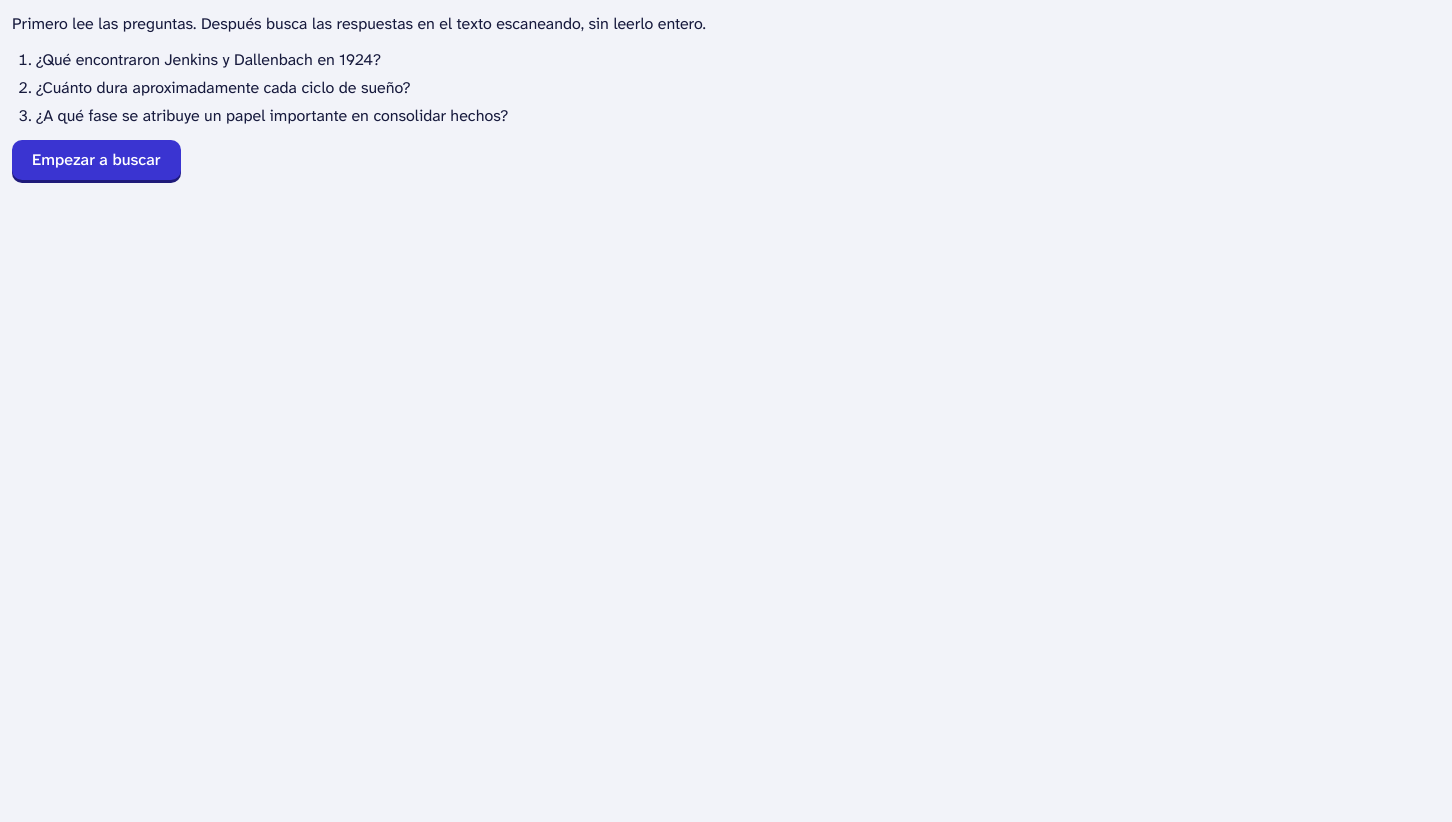
Test: Scan › muestra primero las preguntas, luego el texto y la puntuación
Later steps or results of the test are not shown.
Click the button "Empezar a buscar".
click(96, 160)  # box 12,140 -> 181,180
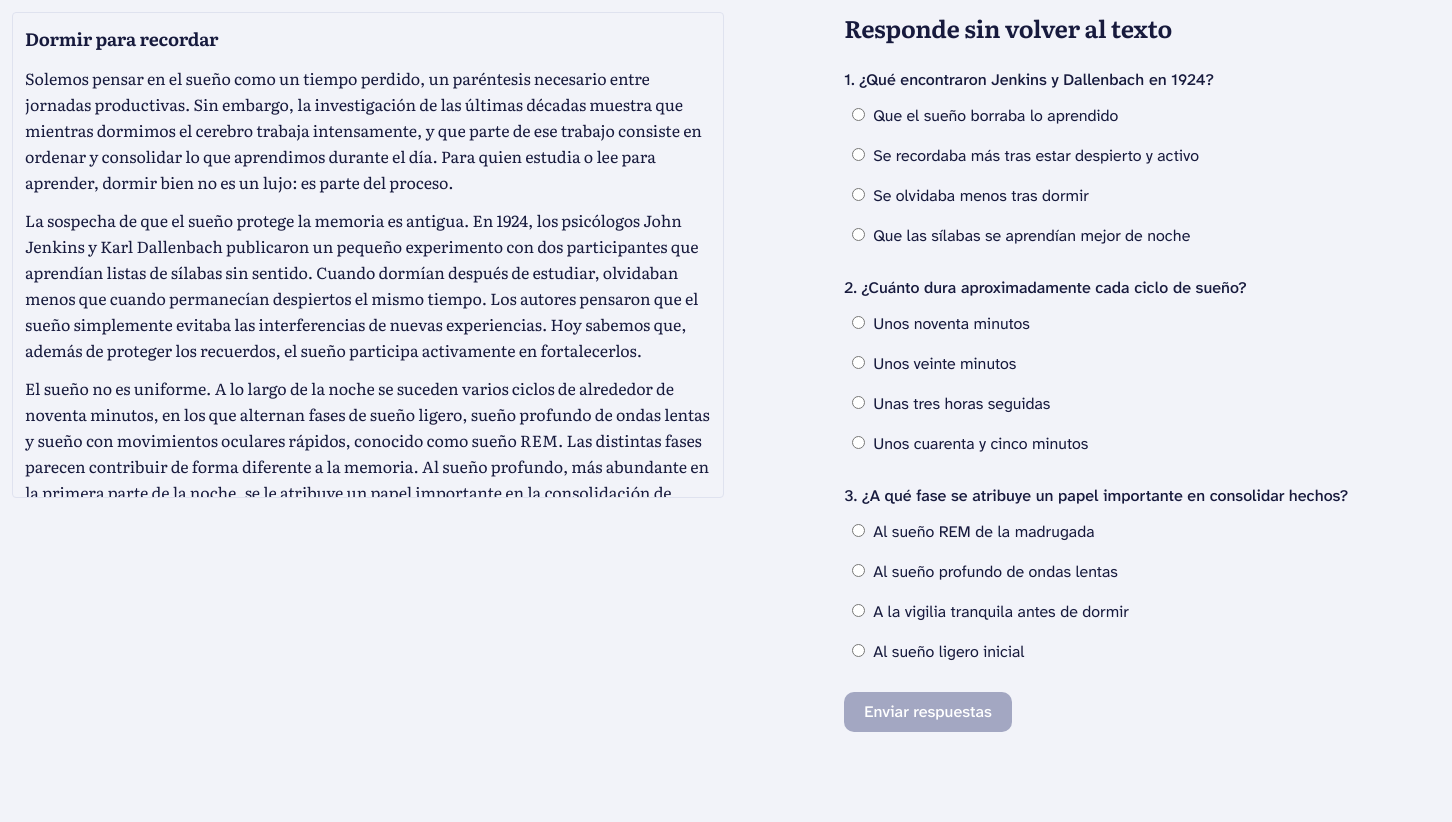
expect the element that starts with "Dormir para recordar" shows "Jenkins y Karl Dallenbach": met, box 25,208 -> 699,362
Click the radio button labelled "Se olvidaba menos tras dormir".
click(859, 194)  # box 852,188 -> 865,201
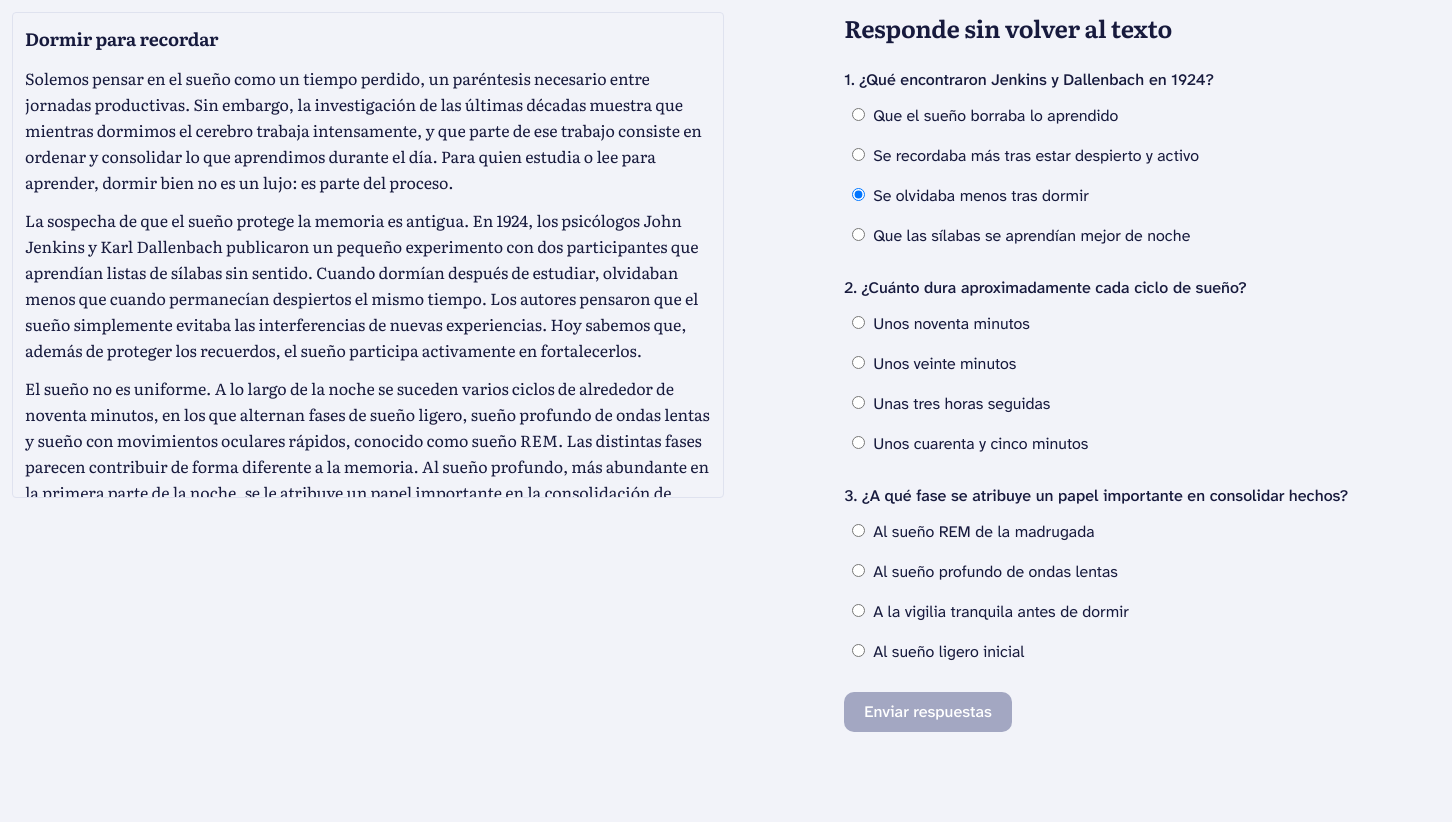
Click the radio button labelled "Unos noventa minutos".
click(859, 322)  # box 852,316 -> 865,329
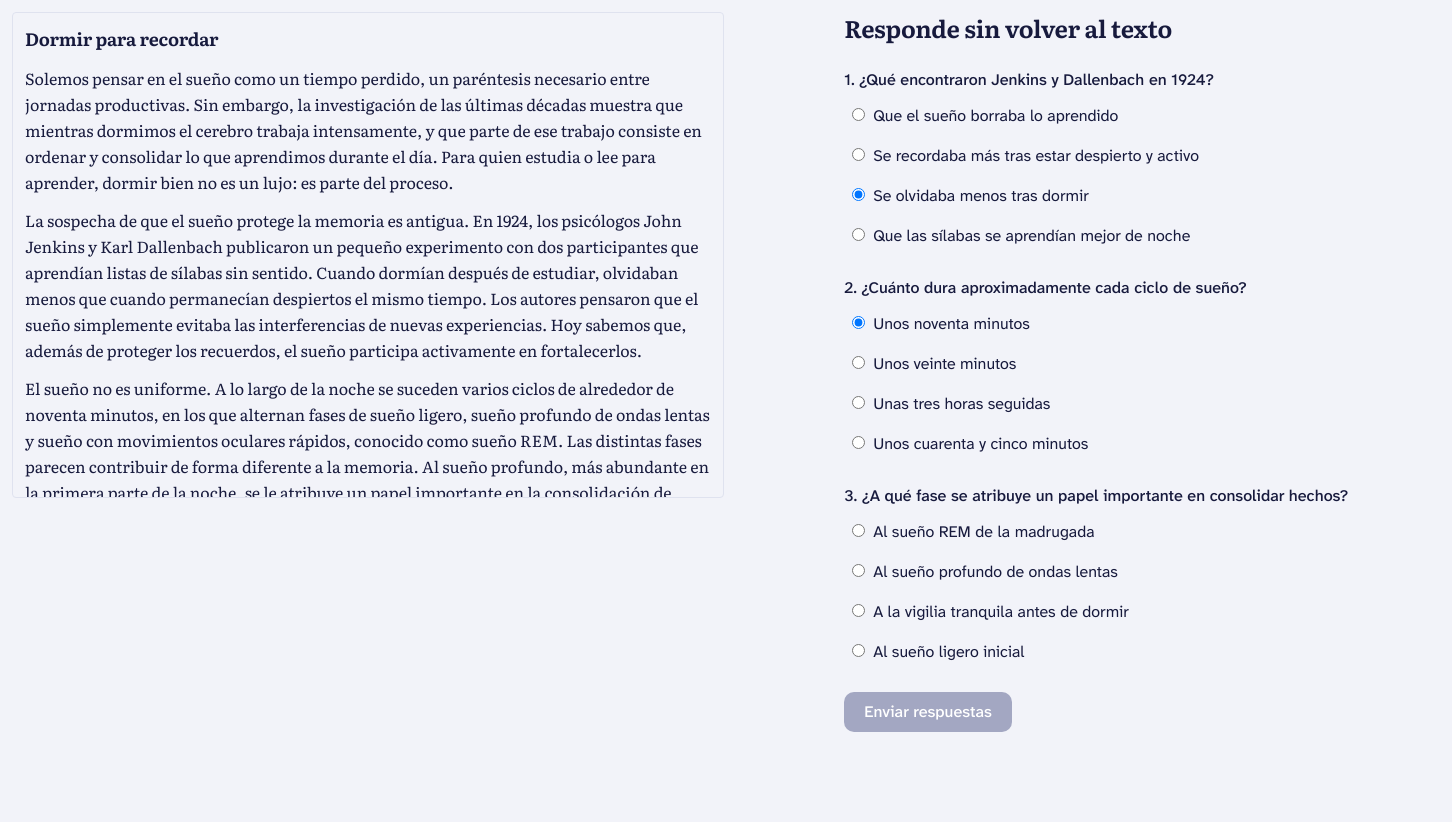
Click the radio button labelled "Al sueño profundo de ondas lentas".
click(859, 570)  # box 852,564 -> 865,577
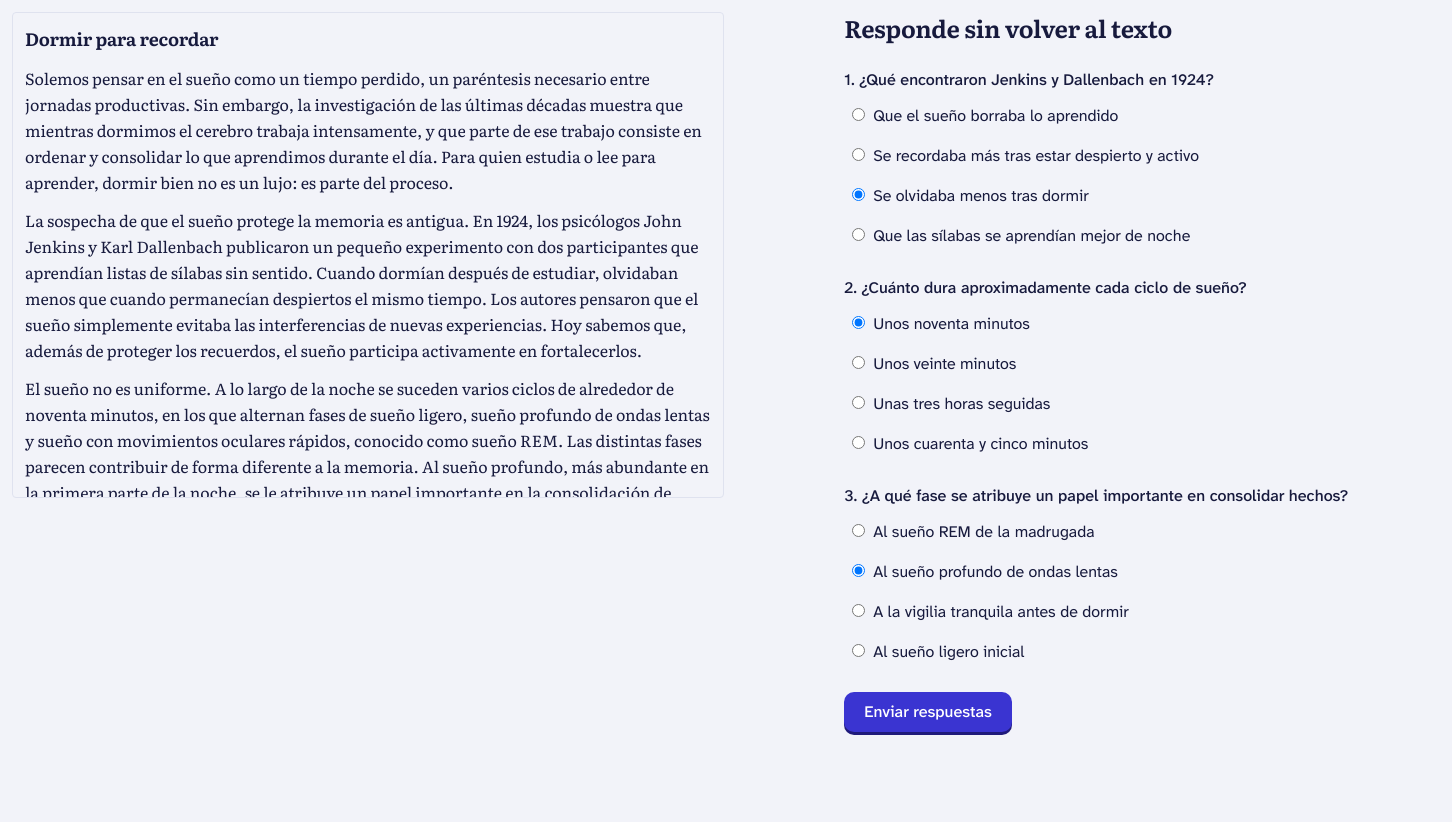
Click the button "Enviar respuestas".
click(928, 712)  # box 844,692 -> 1012,732
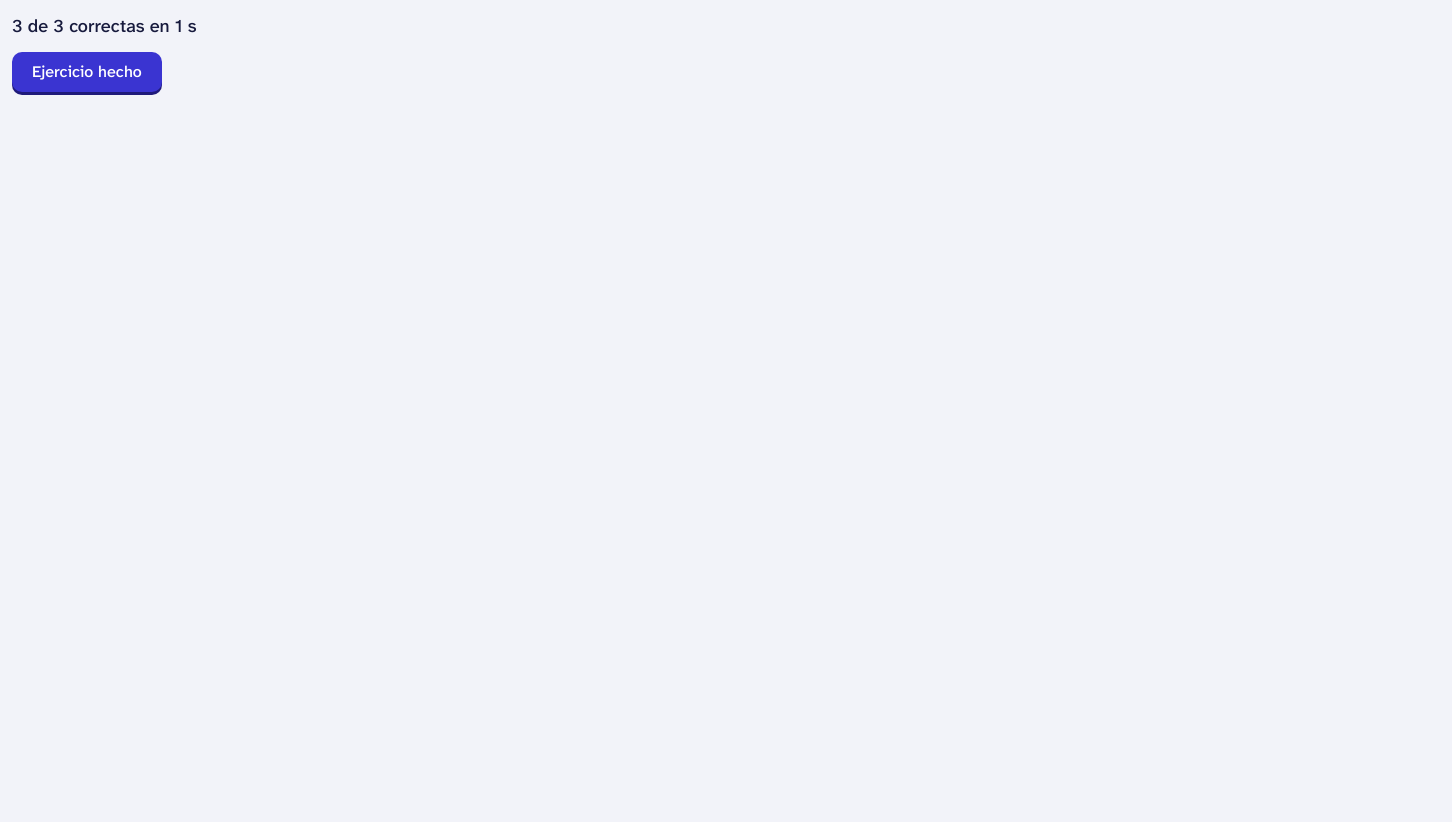
expect the text "3 de 3 correctas en 1 s" is shown: met, box 12,14 -> 196,38
